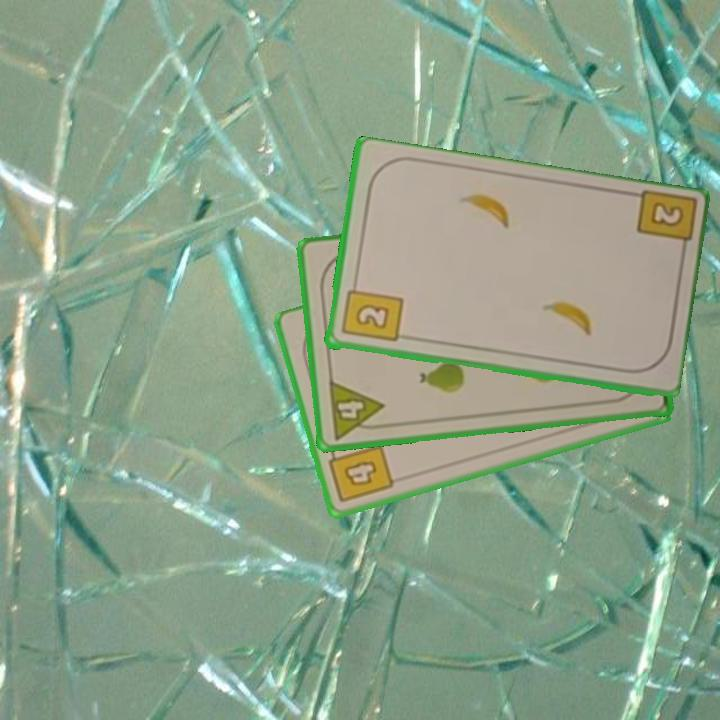2b: (338, 277, 405, 346), (632, 189, 695, 261)
4b: (325, 441, 397, 507)
4p: (325, 377, 389, 442)
